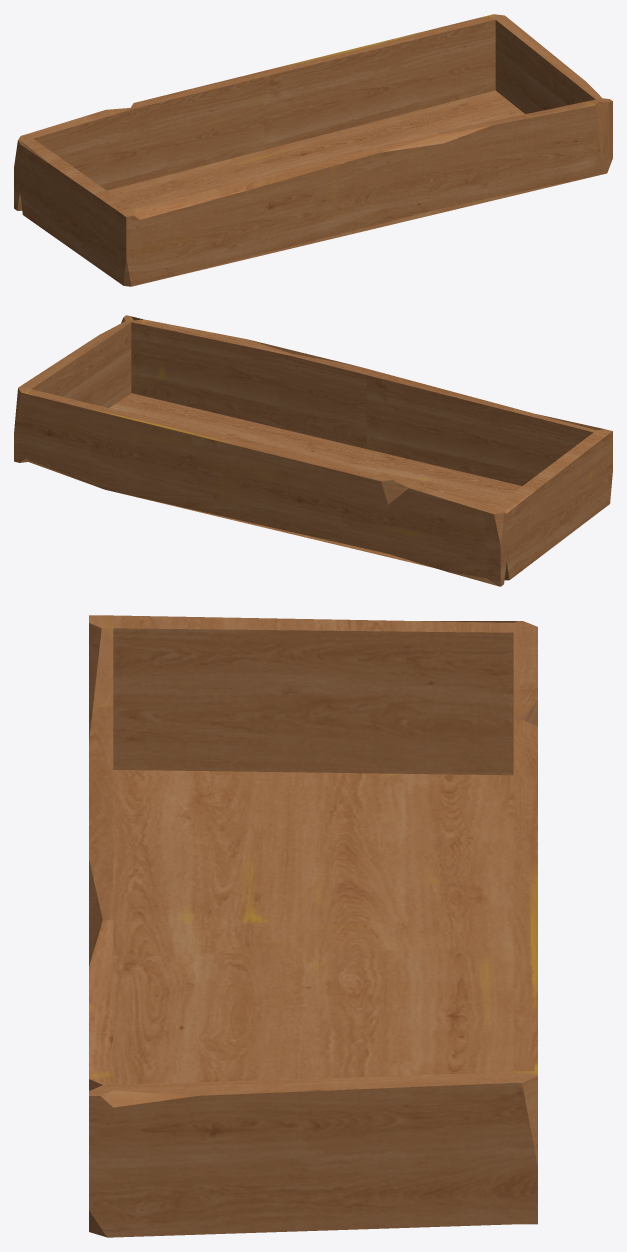
Rendered from long bed.fbx.
The picture shows the model from 3 angles, top to bottom: view 1: azimuth 30°, elevation 25°; view 2: azimuth 150°, elevation 25°; view 3: azimuth 270°, elevation 25°; orthographic projection. The views are drawn at different scales.
Parts seen in each view (by area): view 1: Long bed.; view 2: Long bed.; view 3: Long bed..
Boxes of the visible parts, x1,y1,x2,y2 form: Long bed.: (14, 14, 612, 286); Long bed.: (14, 315, 612, 586); Long bed.: (89, 615, 537, 1237).
Size of the model in its own units: 296 by 44.93 by 118.
1 material, 1 textured.
